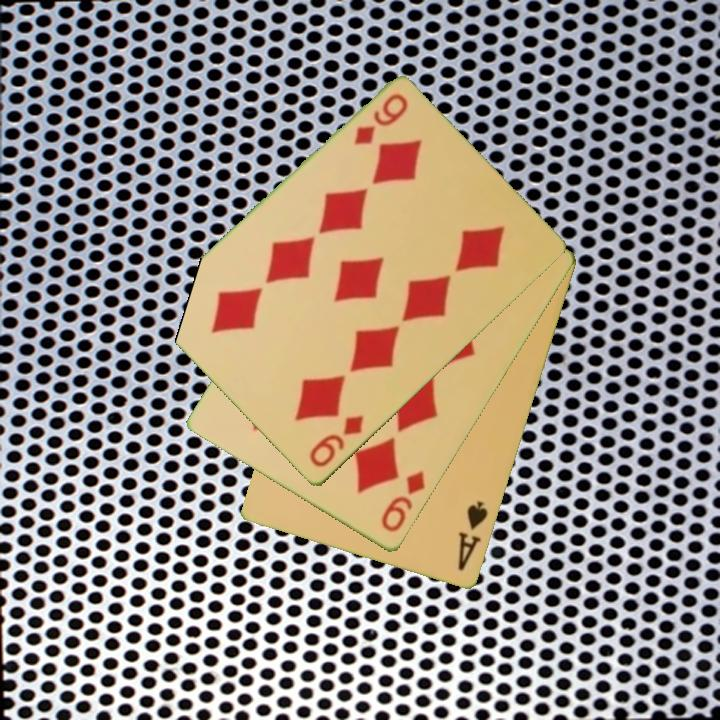9d: (305, 412, 367, 471), (350, 90, 411, 149), (377, 468, 428, 536)
As: (454, 498, 491, 575)
